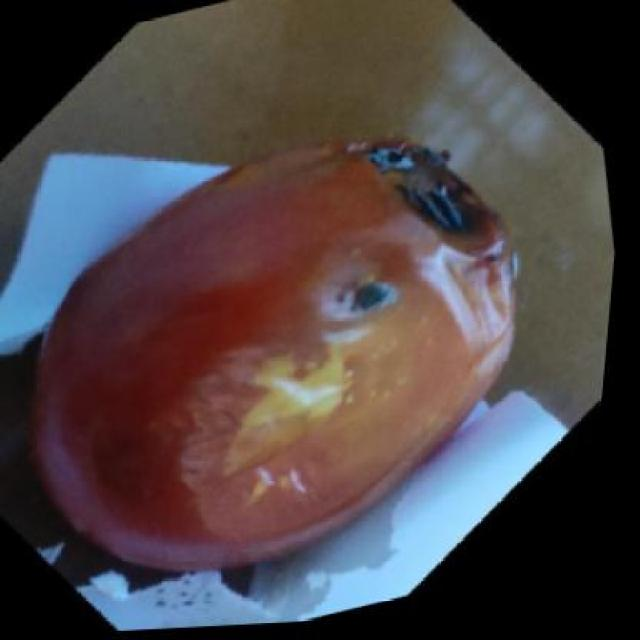overripe tomato: (32, 124, 516, 588)
